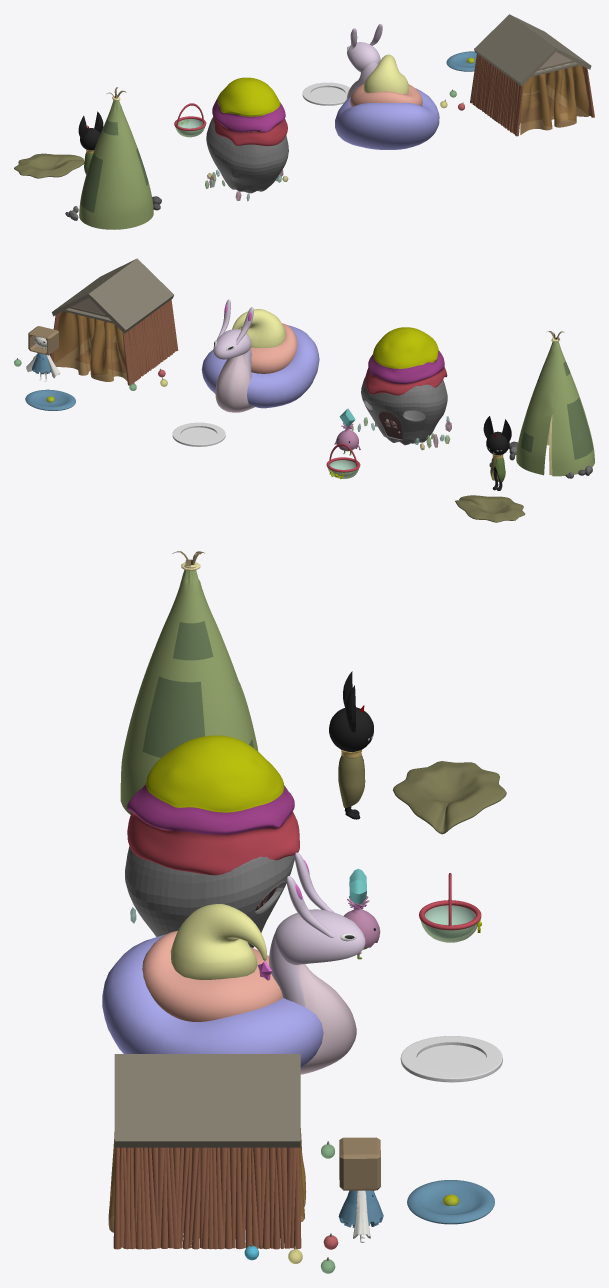
File: recycle_bin_bio.fbx
The picture shows the model from 3 angles, top to bottom: view 1: azimuth 30°, elevation 25°; view 2: azimuth 150°, elevation 25°; view 3: azimuth 270°, elevation 25°; orthographic projection. The views are drawn at different scales.
Parts seen in each view (by area): view 1: group5, pasted__pSphere4, pasted__hm_result_mesh4, polySurface34, stone, ice_cream03, pasted__pSphere5, ice_cream02, pasted__polySurface30, ice_cream01, pasted__polySurface25, pasted__polySurface28 (+5 smaller); view 2: group5, pasted__pSphere4, polySurface34, pasted__hm_result_mesh4, stone, pasted__polySurface25, ice_cream03, pasted__pSphere5, pasted__polySurface30, pasted__polySurface28, ice_cream02, pasted__polySurface2 (+7 smaller); view 3: group5, polySurface34, pasted__pSphere4, pasted__hm_result_mesh4, stone, pasted__polySurface25, ice_cream03, ice_cream01, pasted__polySurface28, pasted__polySurface30, pasted__pSphere5, ice_cream02 (+7 smaller).
Boxes of the visible parts, x1,y1,x2,y2 form: group5: (470,54,594,136); pasted__pSphere4: (79,98,153,229); pasted__hm_result_mesh4: (335,88,439,149); polySurface34: (474,14,591,86); stone: (206,107,288,193); ice_cream03: (217,77,280,116); pasted__pSphere5: (14,153,84,178); ice_cream02: (212,97,285,132); pasted__polySurface30: (363,54,408,94); ice_cream01: (213,105,287,146); pasted__polySurface25: (346,42,380,99); pasted__polySurface28: (350,83,422,107); group5: (50,299,178,385); pasted__pSphere4: (516,339,594,476); polySurface34: (52,258,173,333); pasted__hm_result_mesh4: (201,325,319,408); stone: (361,361,447,445); pasted__polySurface25: (213,329,254,412); ice_cream03: (373,327,438,368); pasted__pSphere5: (455,495,525,522); pasted__polySurface30: (232,309,285,347); pasted__polySurface28: (251,323,297,373); ice_cream02: (368,350,444,383); pasted__polySurface2: (172,422,225,446); group5: (108,1128,306,1249); polySurface34: (114,1054,300,1147); pasted__pSphere4: (120,563,258,814); pasted__hm_result_mesh4: (102,934,323,1068); stone: (125,829,294,947); pasted__polySurface25: (269,909,365,1074); ice_cream03: (145,735,284,812); ice_cream01: (127,812,299,875); pasted__polySurface28: (142,930,282,1021); pasted__polySurface30: (170,904,266,979); pasted__pSphere5: (393,761,506,834); ice_cream02: (126,782,294,834).
Bounding box in the file's own units: 71.93 × 17.74 × 23.93.
